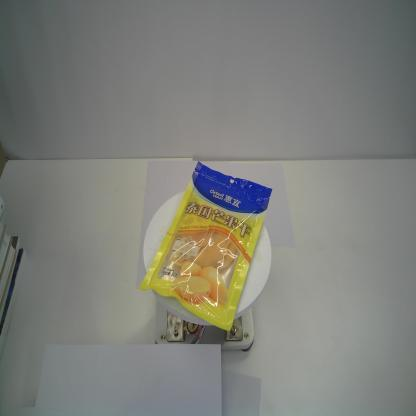Dried Fruit: (137, 160, 273, 331)
